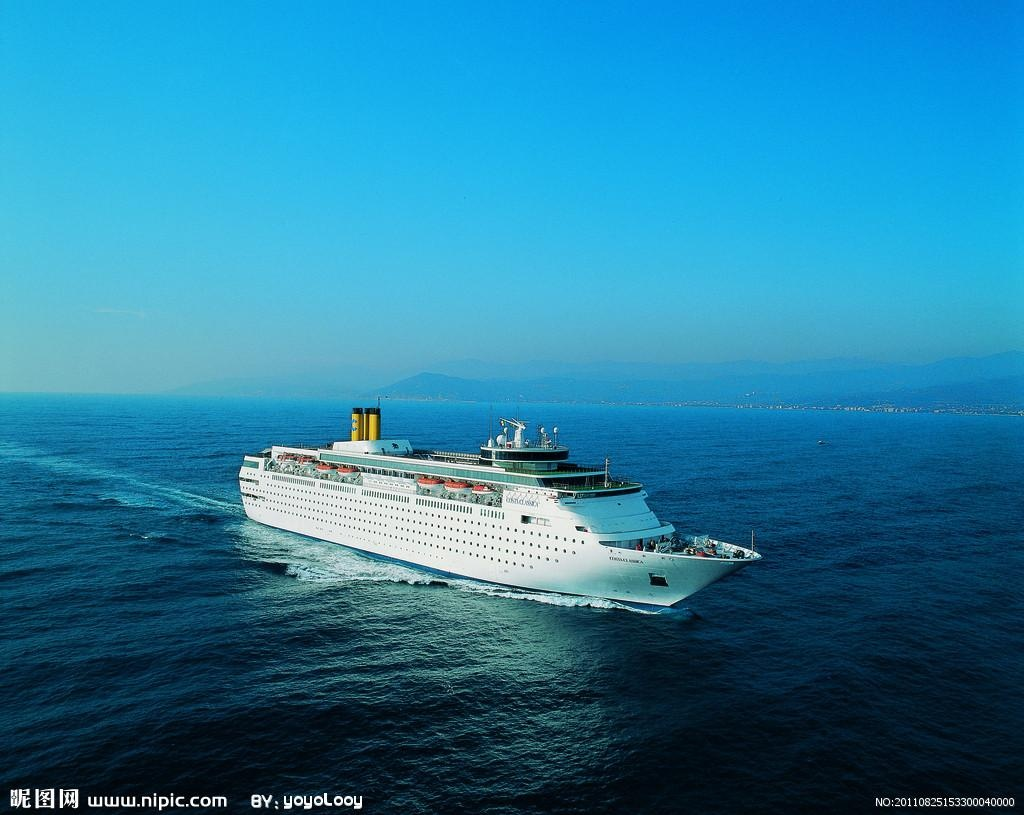youlun: (231, 401, 773, 606)
